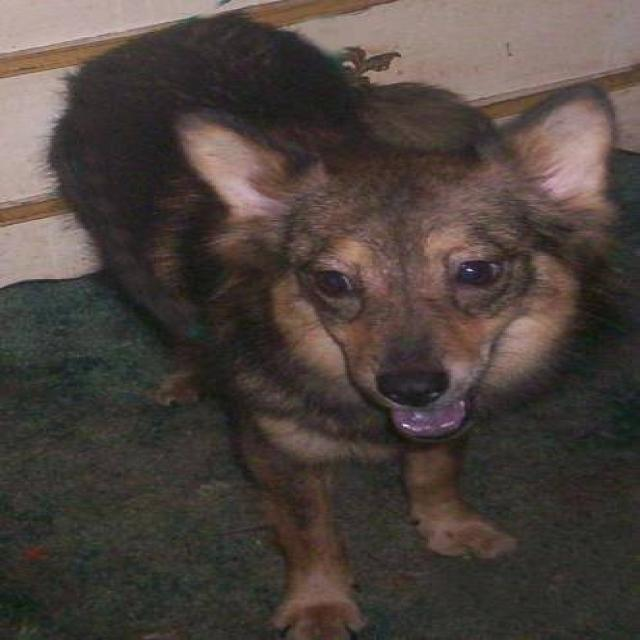dogs: (50, 0, 640, 628)
